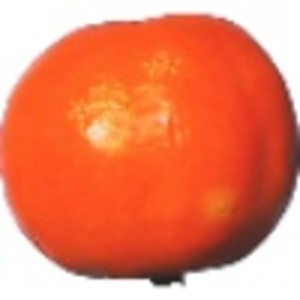tangerina: (1, 10, 300, 285)
